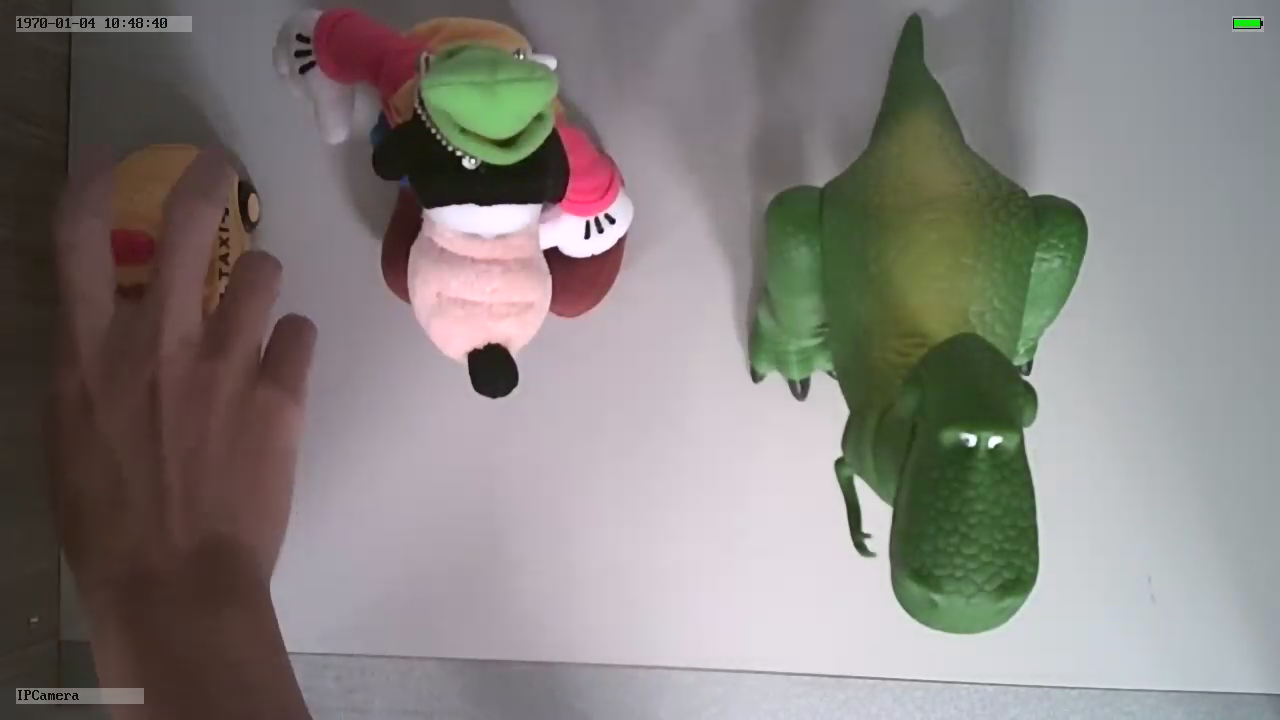goofy: (272, 8, 634, 397)
